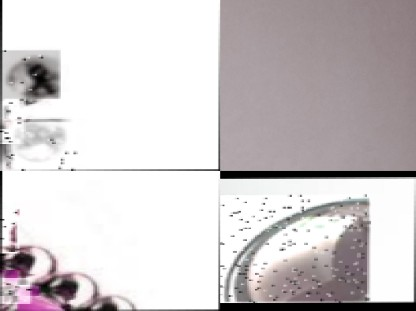ironball: (220, 195, 368, 303), (9, 122, 74, 171), (0, 49, 57, 98), (41, 265, 94, 306), (1, 247, 53, 279), (0, 85, 23, 144), (88, 289, 146, 309), (0, 278, 29, 304), (0, 209, 16, 253)
